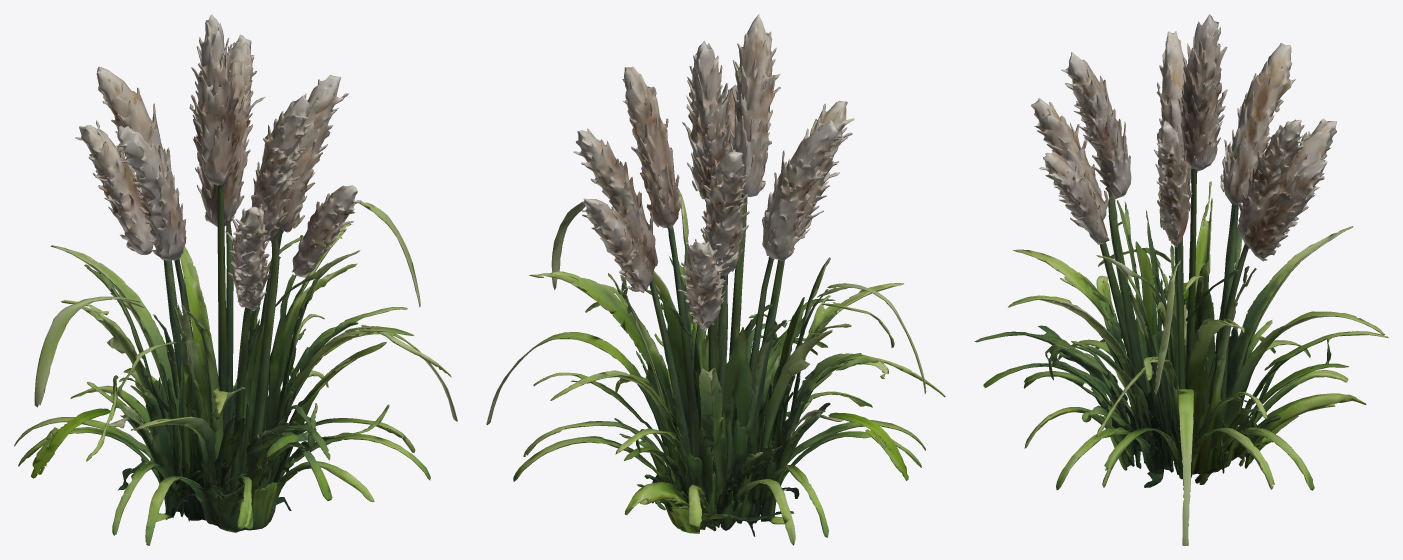
Rendered from nature-grass-tall.glb.
3 renders of one model, left to right at view 1: azimuth 30°, elevation 25°; view 2: azimuth 150°, elevation 25°; view 3: azimuth 270°, elevation 25°, orthographic. The views are drawn at different scales.
Parts seen in each view (by area): view 1: tripo_node_0a0307ae-4898-4288-a343-28be495c0512; view 2: tripo_node_0a0307ae-4898-4288-a343-28be495c0512; view 3: tripo_node_0a0307ae-4898-4288-a343-28be495c0512.
Boxes of the visible parts, x1,y1,x2,y2 form: tripo_node_0a0307ae-4898-4288-a343-28be495c0512: (14, 14, 457, 545); tripo_node_0a0307ae-4898-4288-a343-28be495c0512: (486, 14, 945, 545); tripo_node_0a0307ae-4898-4288-a343-28be495c0512: (974, 14, 1388, 545).
Bounding box in the file's own units: 1.36 × 1.5 × 1.2.
Materials: 1 (1 with a texture image).
